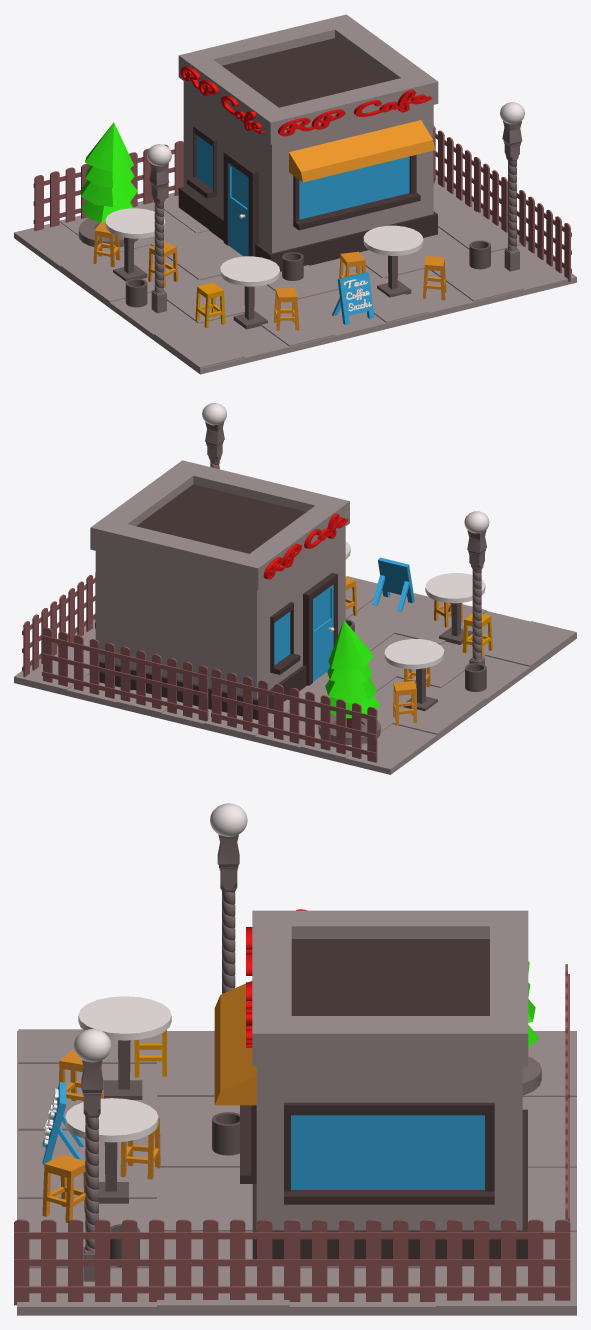
The model's file is low-poly_cafe.glb.
3 renders of one model, top to bottom at view 1: azimuth 30°, elevation 25°; view 2: azimuth 150°, elevation 25°; view 3: azimuth 270°, elevation 25°, orthographic. The views are drawn at different scales.
Parts seen in each view (by area): view 1: Object_5, Object_4, Object_7, Object_8, Object_9, Object_14, Object_6, Object_12, Object_11, Object_10, Object_3; view 2: Object_5, Object_7, Object_4, Object_14, Object_9, Object_11, Object_6, Object_12, Object_8, Object_10, Object_3; view 3: Object_5, Object_7, Object_4, Object_9, Object_8, Object_14, Object_6, Object_12, Object_10, Object_3.
Boxes of the visible parts, x1=… form: Object_5: x1=14, y1=14, x2=576, y2=374; Object_4: x1=178, y1=38, x2=437, y2=271; Object_7: x1=33, y1=125, x2=571, y2=281; Object_8: x1=93, y1=120, x2=446, y2=330; Object_9: x1=196, y1=135, x2=409, y2=324; Object_14: x1=105, y1=102, x2=524, y2=286; Object_6: x1=78, y1=121, x2=522, y2=313; Object_12: x1=113, y1=237, x2=490, y2=329; Object_11: x1=81, y1=122, x2=137, y2=222; Object_10: x1=180, y1=66, x2=432, y2=136; Object_3: x1=195, y1=282, x2=225, y2=328; Object_5: x1=14, y1=460, x2=576, y2=774; Object_7: x1=22, y1=572, x2=377, y2=762; Object_4: x1=95, y1=484, x2=337, y2=719; Object_14: x1=202, y1=403, x2=489, y2=669; Object_9: x1=274, y1=557, x2=414, y2=681; Object_11: x1=325, y1=620, x2=379, y2=718; Object_6: x1=205, y1=421, x2=486, y2=744; Object_12: x1=345, y1=603, x2=486, y2=711; Object_8: x1=345, y1=576, x2=462, y2=725; Object_10: x1=210, y1=466, x2=348, y2=579; Object_3: x1=462, y1=613, x2=492, y2=656; Object_5: x1=17, y1=910, x2=576, y2=1315; Object_7: x1=14, y1=964, x2=570, y2=1305; Object_4: x1=240, y1=939, x2=527, y2=1259; Object_9: x1=42, y1=1082, x2=484, y2=1189; Object_8: x1=42, y1=980, x2=256, y2=1222; Object_14: x1=65, y1=803, x2=247, y2=1142; Object_6: x1=81, y1=834, x2=541, y2=1281; Object_12: x1=98, y1=1040, x2=239, y2=1267; Object_10: x1=246, y1=909, x2=307, y2=1047; Object_3: x1=134, y1=1030, x2=166, y2=1077.
Size of the model in its own units: 7 by 3.02 by 6.03.
